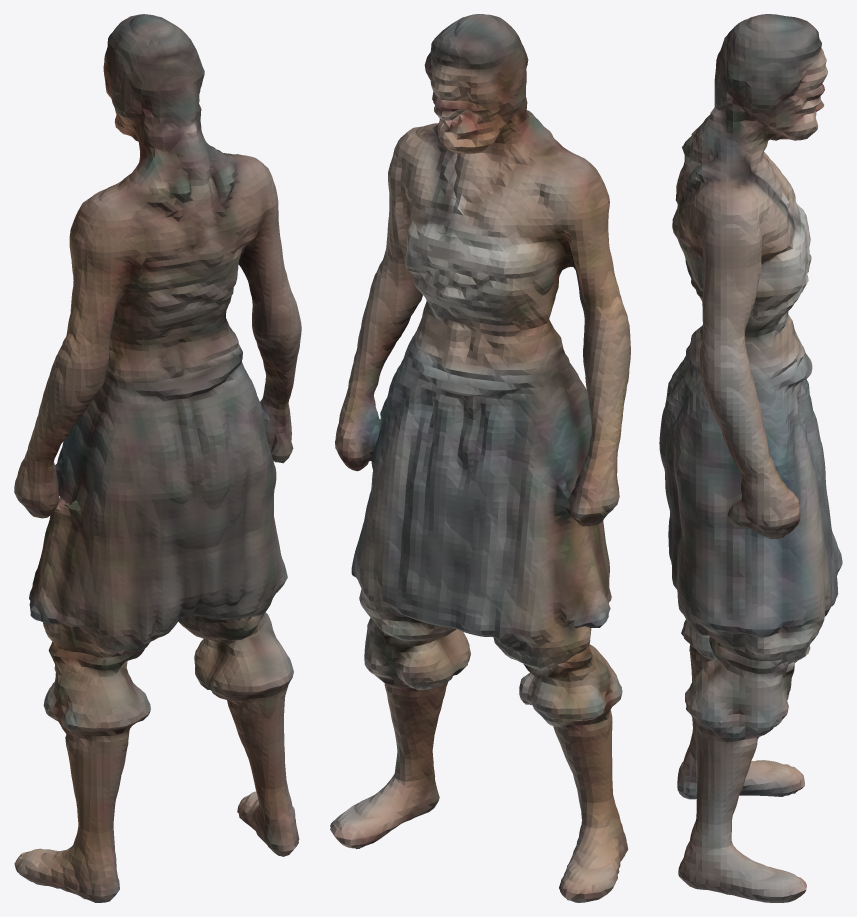
Rendered from girl_0.low.glb.
3 views of the same model, side by side, from view 1: azimuth 30°, elevation 25°; view 2: azimuth 150°, elevation 25°; view 3: azimuth 270°, elevation 25° (orthographic). The views are drawn at different scales.
Visible parts, largest first — view 1: world; view 2: world; view 3: world.
Boxes of the visible parts, x1=… form: world: x1=14, y1=14, x2=301, y2=902; world: x1=330, y1=14, x2=630, y2=902; world: x1=659, y1=14, x2=842, y2=902.
Bounding box in the file's own units: 0.3458 × 1.01 × 0.2023.
